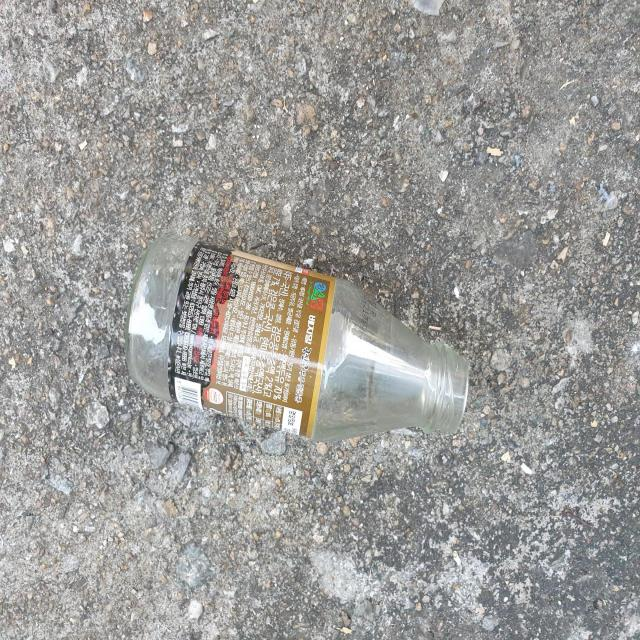glass: (125, 236, 469, 441)
